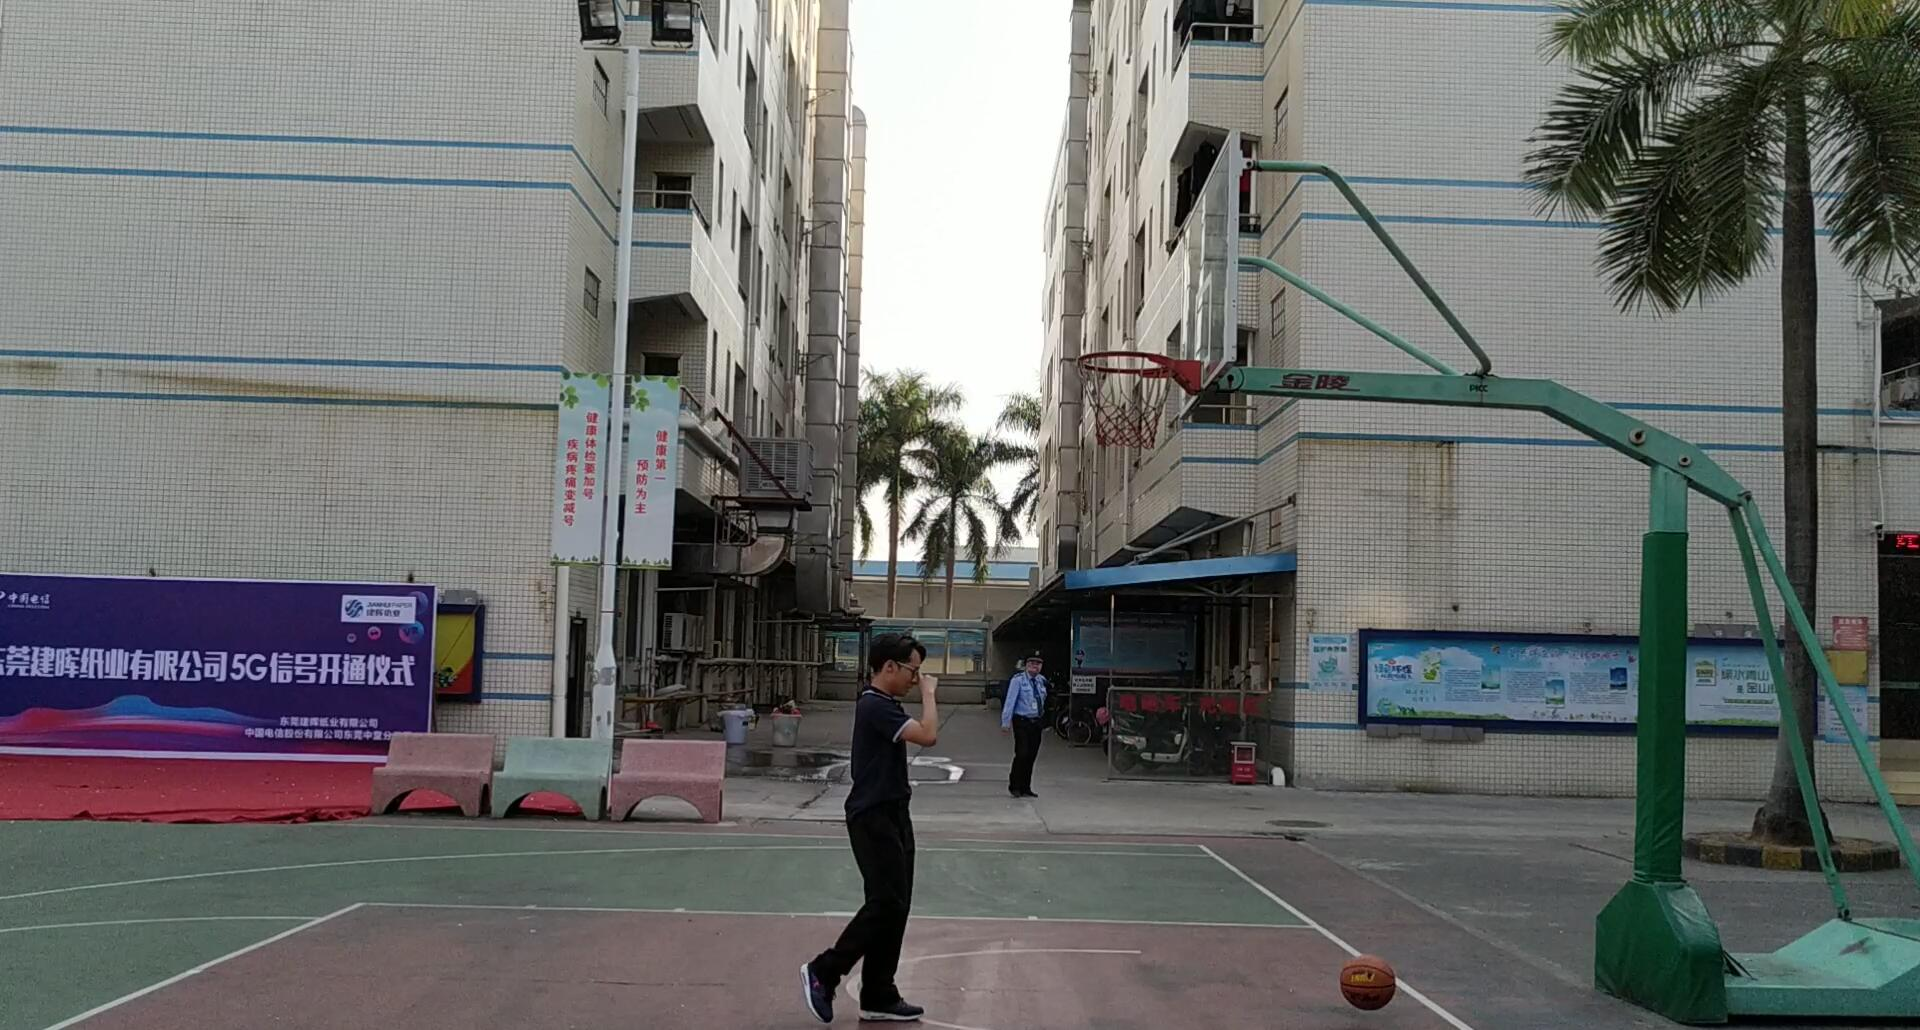basketball: (1338, 950, 1403, 1012)
